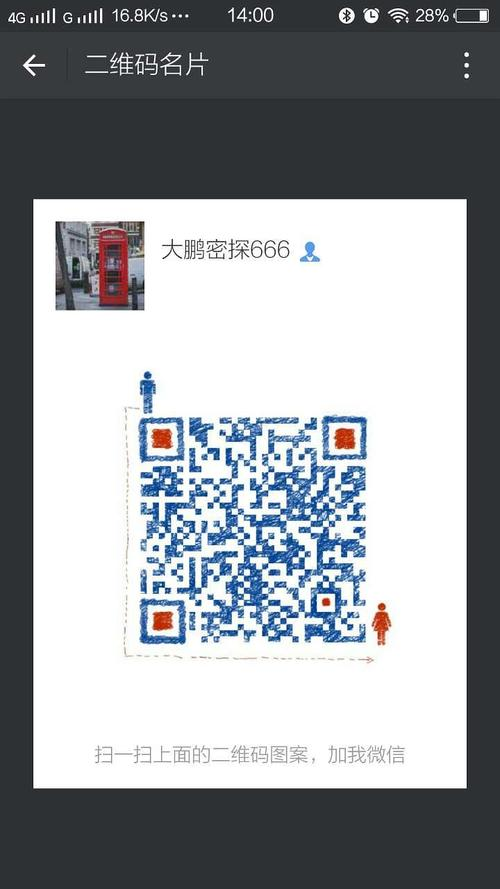QRCode: (137, 412, 377, 644)
